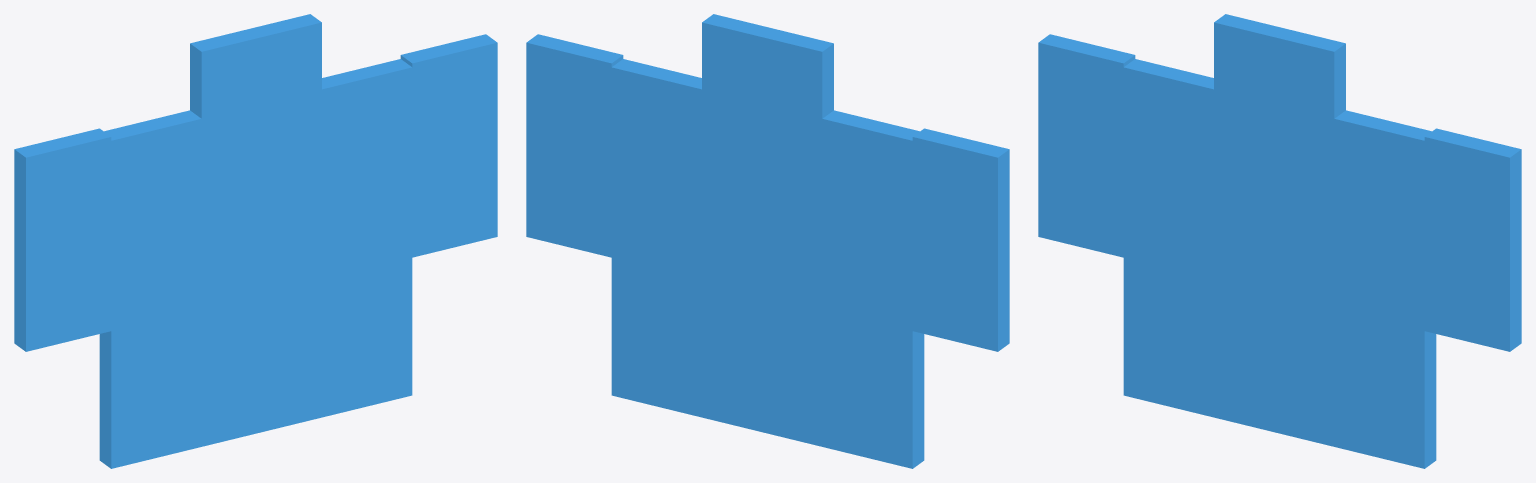
File: male-hoodie.glb
3 renders of one model, left to right at view 1: azimuth 30°, elevation 25°; view 2: azimuth 150°, elevation 25°; view 3: azimuth 330°, elevation 25°, orthographic.
Parts seen in each view (by area): view 1: Male Hoodie Starter; view 2: Male Hoodie Starter; view 3: Male Hoodie Starter.
Part boxes in pixels (<box>): Male Hoodie Starter: <box>14,14,497,468</box>; Male Hoodie Starter: <box>526,14,1009,468</box>; Male Hoodie Starter: <box>1038,14,1521,468</box>.
Size of the model in its own units: 1.88 by 1.5 by 0.08.
